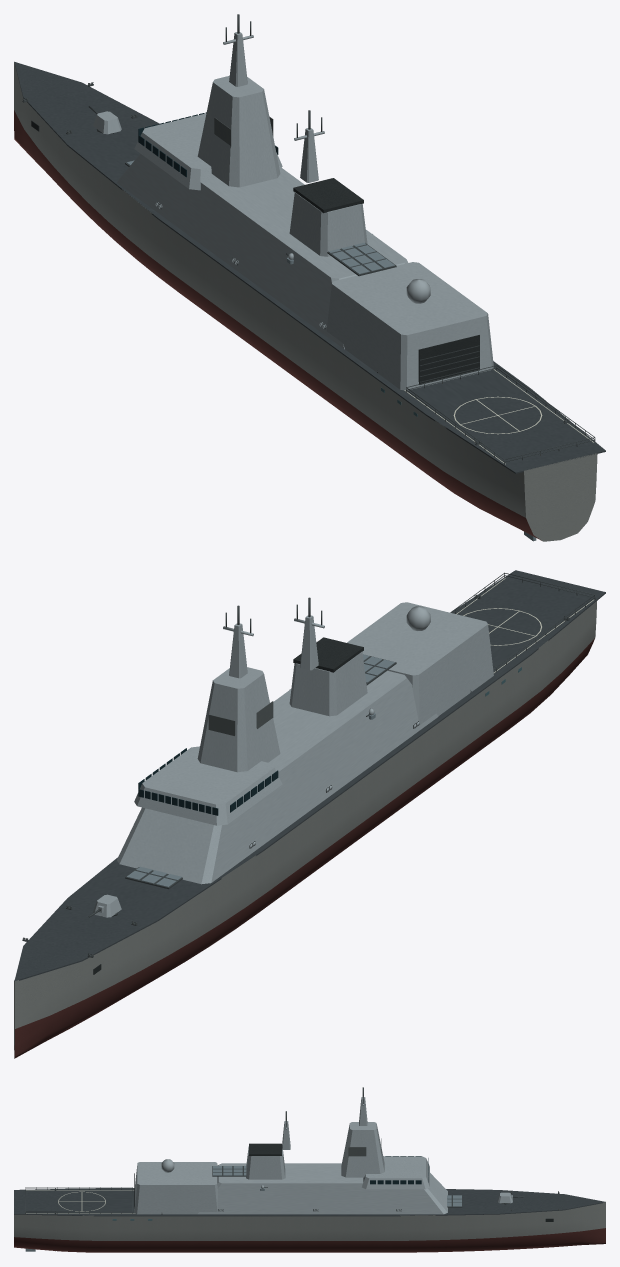
File: wings_type055_renhai.glb
3 renders of one model, top to bottom at view 1: azimuth 30°, elevation 25°; view 2: azimuth 150°, elevation 25°; view 3: azimuth 270°, elevation 25°, orthographic. The views are drawn at different scales.
Visible parts, largest first — view 1: static_hull_deck_superstructure; view 2: static_hull_deck_superstructure; view 3: static_hull_deck_superstructure.
Part boxes in pixels (x1,y1,x2,y2): static_hull_deck_superstructure: (14,14,605,541); static_hull_deck_superstructure: (14,570,605,1058); static_hull_deck_superstructure: (14,1087,605,1252).
Size of the model in its own units: 20 by 53.7 by 180.
Materials: 1 (1 with a texture image).
